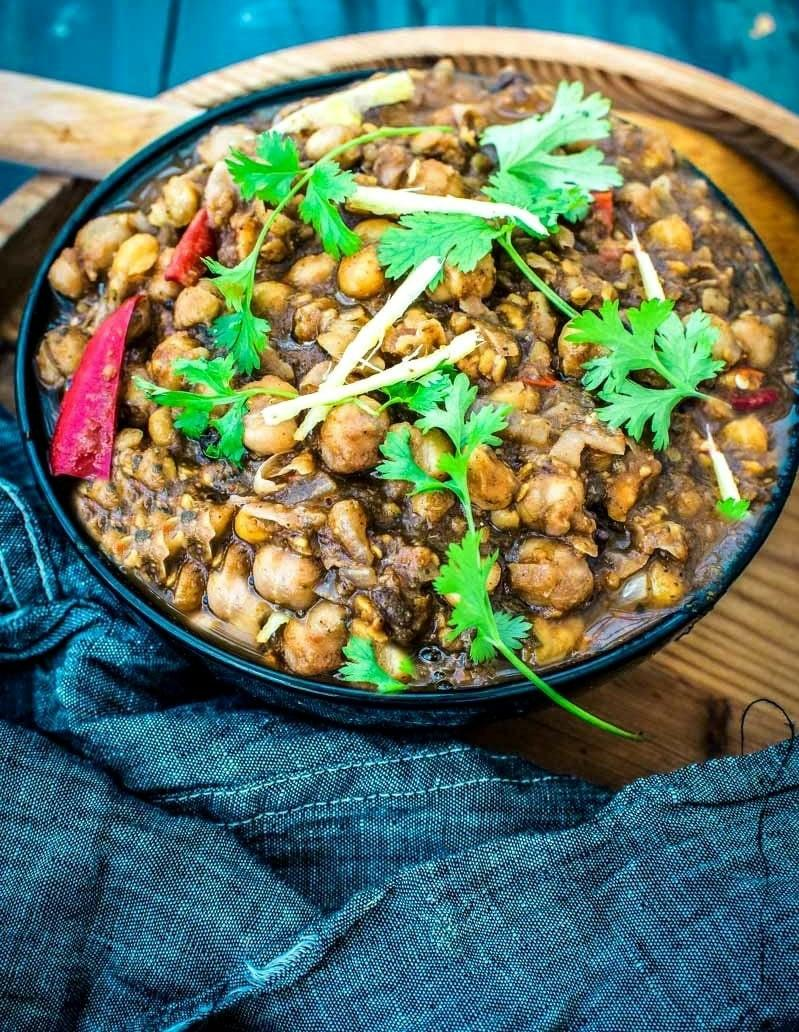Chole: (41, 59, 799, 691)
